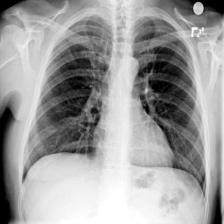normal: (17, 7, 210, 198)
